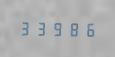eight: (63, 20, 77, 37)
nine: (48, 19, 62, 37)
six: (78, 20, 92, 37)
three: (18, 19, 32, 36), (33, 19, 47, 36)
